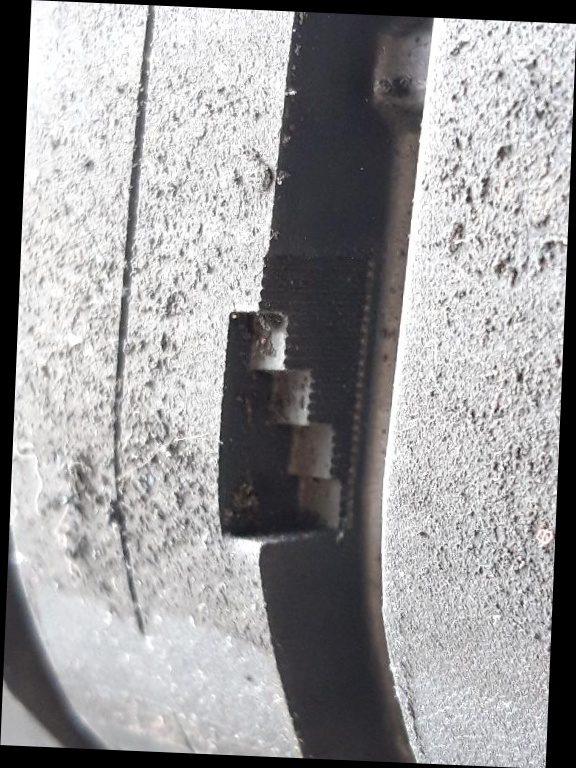temoin:95: (194, 241, 387, 565)
